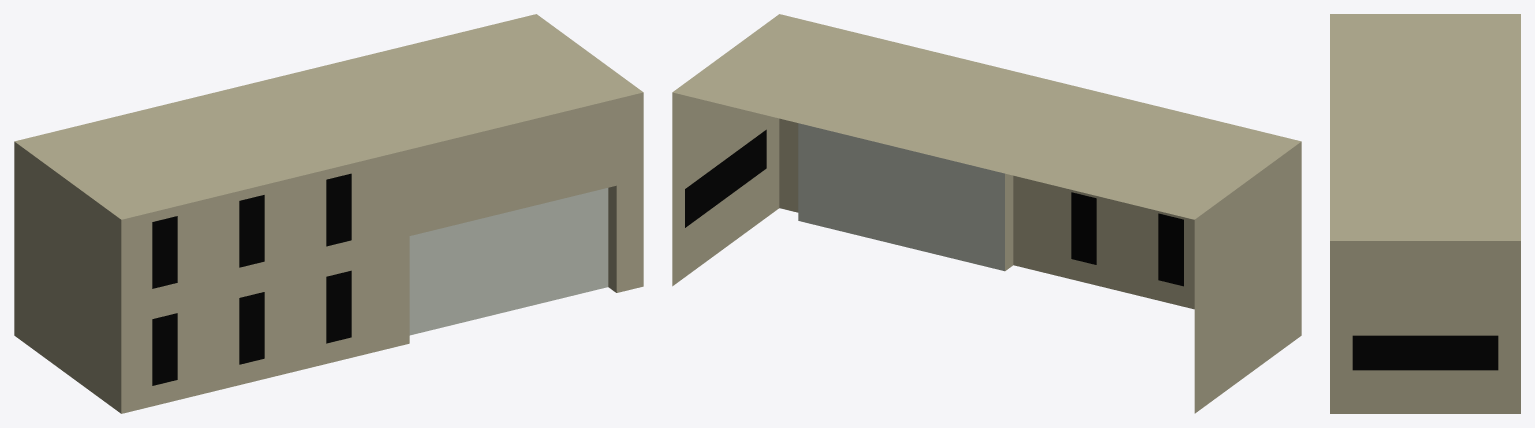
The picture shows the model from 3 angles, left to right: view 1: azimuth 30°, elevation 25°; view 2: azimuth 150°, elevation 25°; view 3: azimuth 270°, elevation 25°; orthographic projection. The views are drawn at different scales.
Visible parts, largest first — view 1: BASE; view 2: BASE; view 3: BASE.
Part boxes in pixels (x1,y1,x2,y2): BASE: (14,14,643,413); BASE: (672,14,1301,413); BASE: (1330,14,1520,413).
Bounding box in the file's own units: 1410 × 501 × 501.
